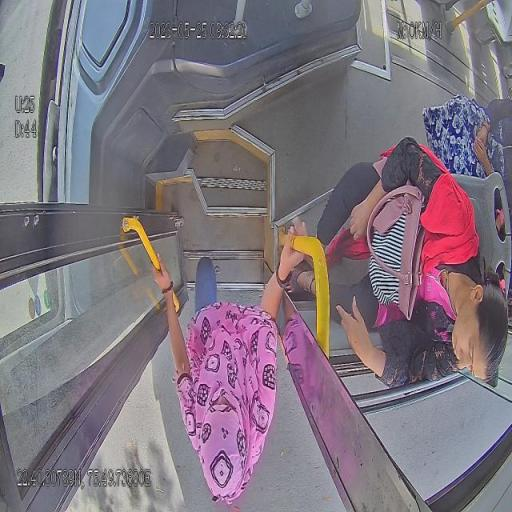persona: (280, 136, 509, 390), (150, 221, 314, 505), (422, 94, 508, 238)
